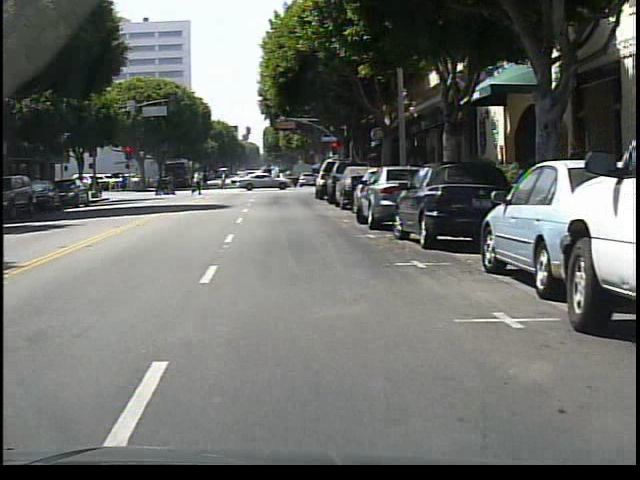person: (187, 168, 207, 197)
